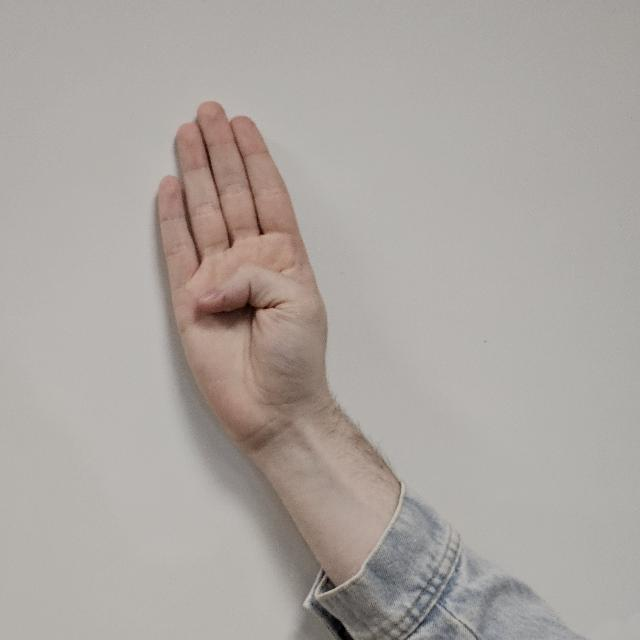Baixo: (154, 99, 333, 433)
